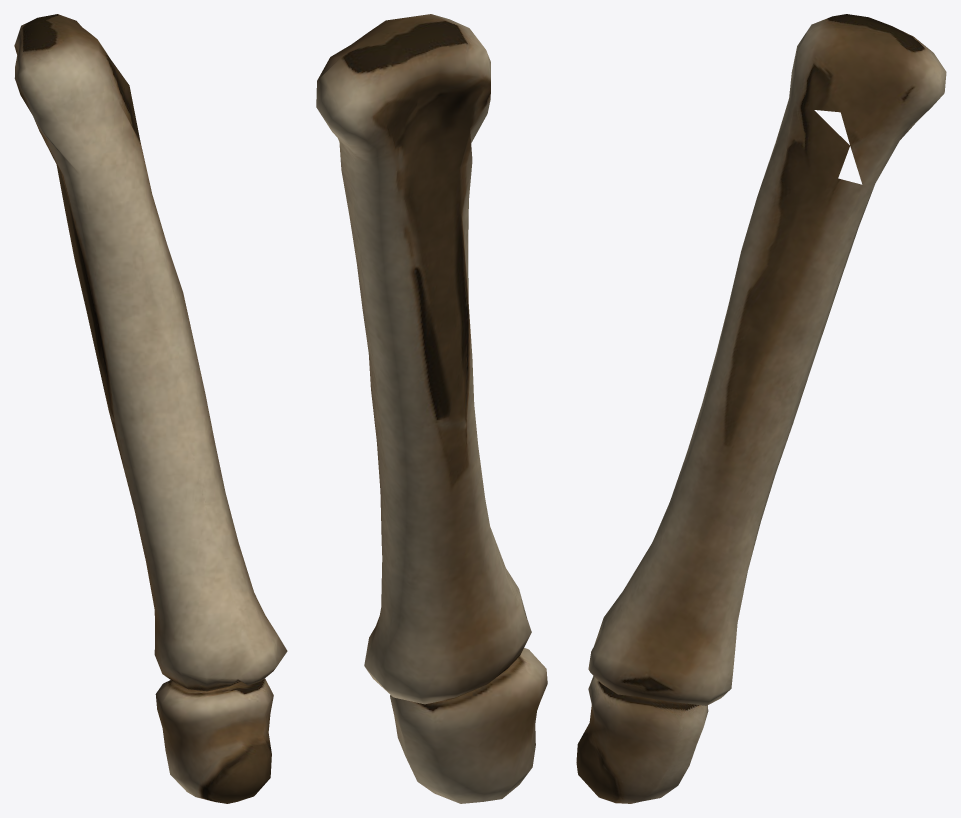
Rendered from Metatarsal_IV.glb.
3 views of the same model, side by side, from view 1: azimuth 30°, elevation 25°; view 2: azimuth 150°, elevation 25°; view 3: azimuth 270°, elevation 25° (orthographic). The views are drawn at different scales.
Visible parts, largest first — view 1: Metatarsal_IV_Right1:Group32103; view 2: Metatarsal_IV_Right1:Group32103; view 3: Metatarsal_IV_Right1:Group32103.
Boxes of the visible parts, box(x1,y1,x2,y2) form: Metatarsal_IV_Right1:Group32103: box(14, 14, 287, 803); Metatarsal_IV_Right1:Group32103: box(316, 14, 547, 803); Metatarsal_IV_Right1:Group32103: box(576, 14, 946, 803).
Bounding box in the file's own units: 15.1 × 59.91 × 27.08.
1 material, 1 textured.
